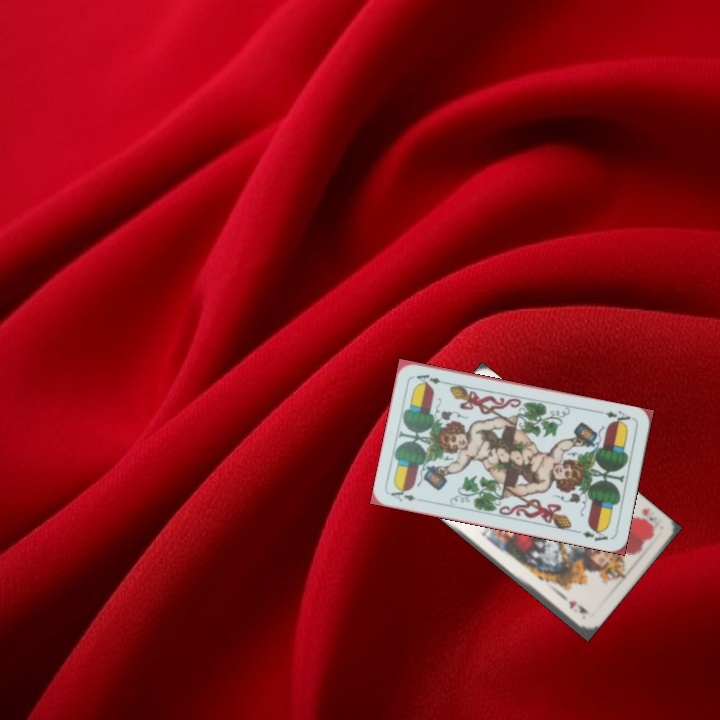EA: (601, 406, 636, 428), (386, 484, 418, 504)
HK: (638, 504, 662, 532)
